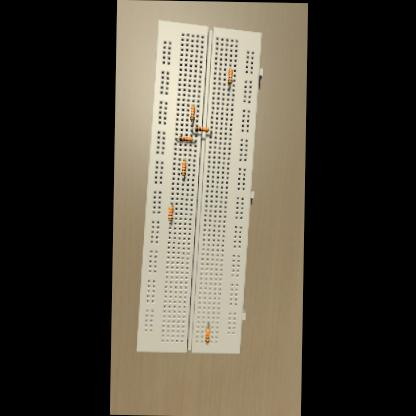breadboard: (136, 19, 264, 353)
resistor: (204, 326, 210, 342), (194, 125, 208, 131), (189, 104, 194, 119), (227, 68, 232, 83), (180, 160, 185, 174), (177, 135, 191, 140), (168, 206, 172, 220)
wire: (190, 127, 193, 130), (228, 82, 229, 89), (175, 136, 177, 139), (191, 119, 192, 124), (170, 202, 172, 204), (182, 174, 183, 178), (192, 138, 194, 140), (209, 128, 210, 132), (170, 219, 170, 222), (184, 158, 184, 160), (192, 103, 192, 104)
